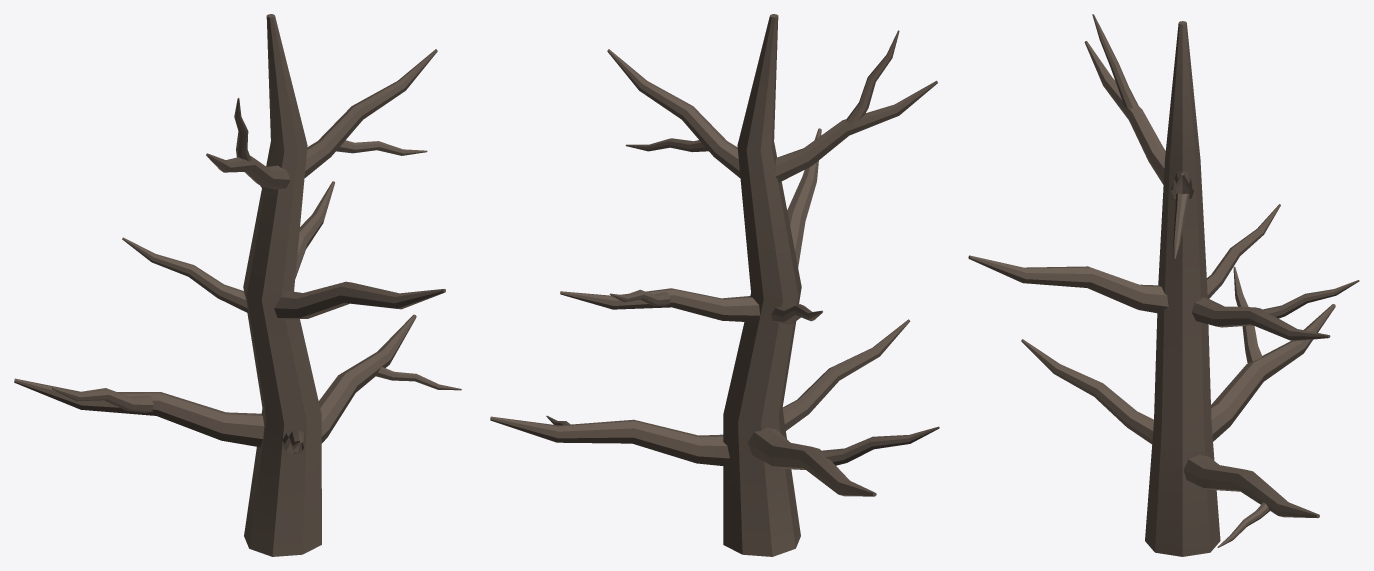
Rendered from Toterbaum.fbx.
The picture shows the model from 3 angles, left to right: view 1: azimuth 30°, elevation 25°; view 2: azimuth 150°, elevation 25°; view 3: azimuth 270°, elevation 25°; orthographic projection. The views are drawn at different scales.
Visible parts, largest first — view 1: polySurface14; view 2: polySurface14; view 3: polySurface14.
Boxes of the visible parts, x1,y1,x2,y2 form: polySurface14: (14,14,461,556); polySurface14: (490,14,939,556); polySurface14: (968,14,1359,556).
Bounding box in the file's own units: 403 × 500 × 346.
